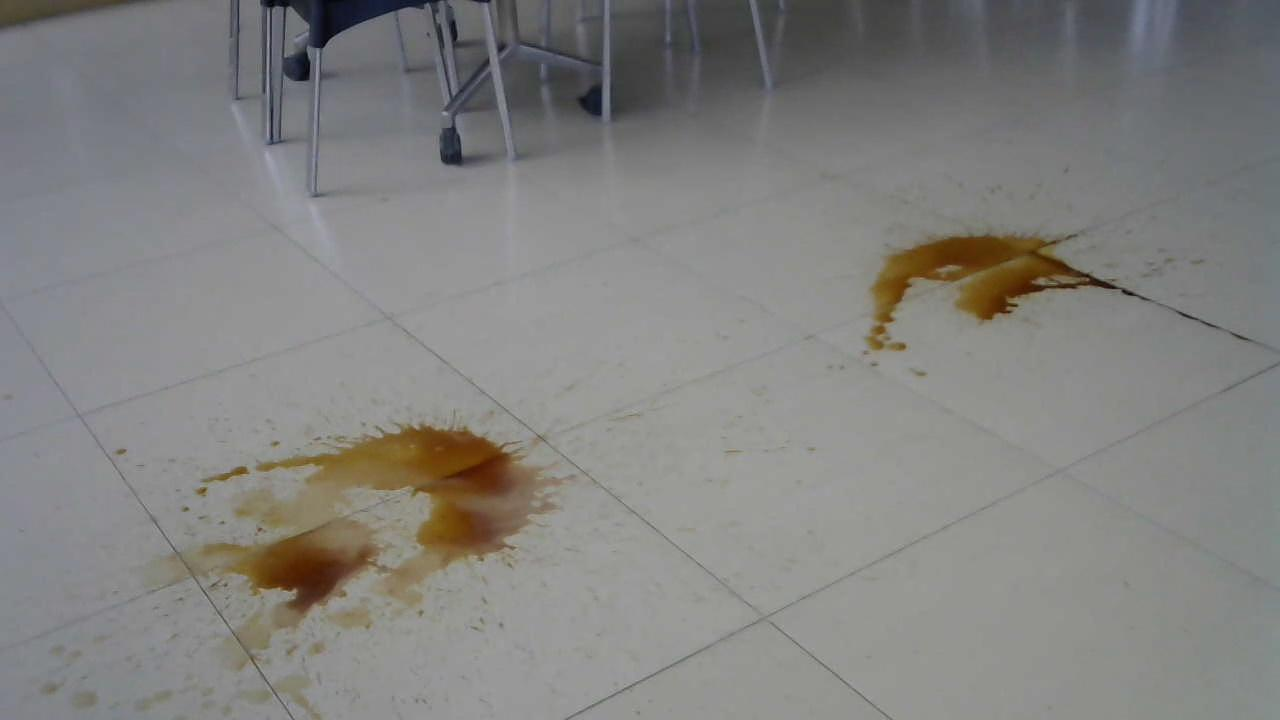dirty_floor: (156, 413, 570, 635), (845, 222, 1153, 370)
